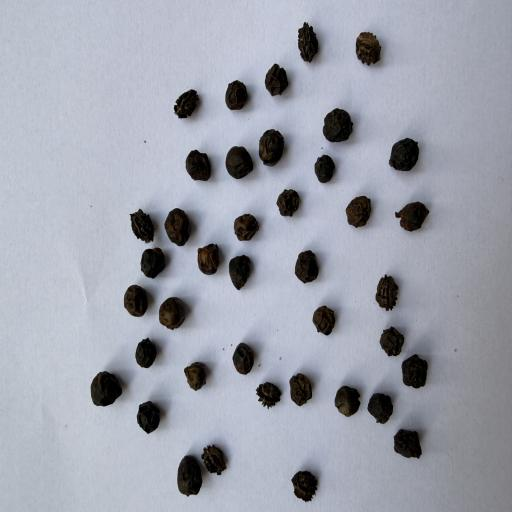Black_pepper: (389, 135, 421, 175), (322, 106, 356, 142), (222, 144, 255, 181), (90, 370, 122, 408), (391, 426, 426, 460), (164, 203, 191, 247), (400, 352, 428, 394), (174, 456, 202, 498), (396, 202, 430, 234), (258, 128, 285, 168), (134, 400, 162, 436), (158, 297, 186, 332), (263, 62, 290, 98), (294, 249, 320, 286), (309, 302, 337, 336), (366, 390, 394, 424), (345, 193, 372, 228), (334, 385, 360, 420), (187, 148, 211, 185), (289, 374, 313, 411), (276, 186, 302, 220), (229, 254, 252, 292), (184, 359, 208, 395), (141, 246, 167, 279), (230, 343, 256, 376), (196, 241, 219, 277), (222, 78, 246, 112), (123, 284, 148, 316), (379, 324, 404, 356), (135, 337, 158, 371), (312, 154, 336, 186), (233, 214, 257, 242)
papaya_seed: (270, 449, 328, 512), (121, 191, 164, 246), (370, 267, 412, 318), (165, 84, 206, 130), (352, 18, 384, 73), (294, 17, 323, 70), (200, 440, 233, 480), (256, 372, 286, 409)
